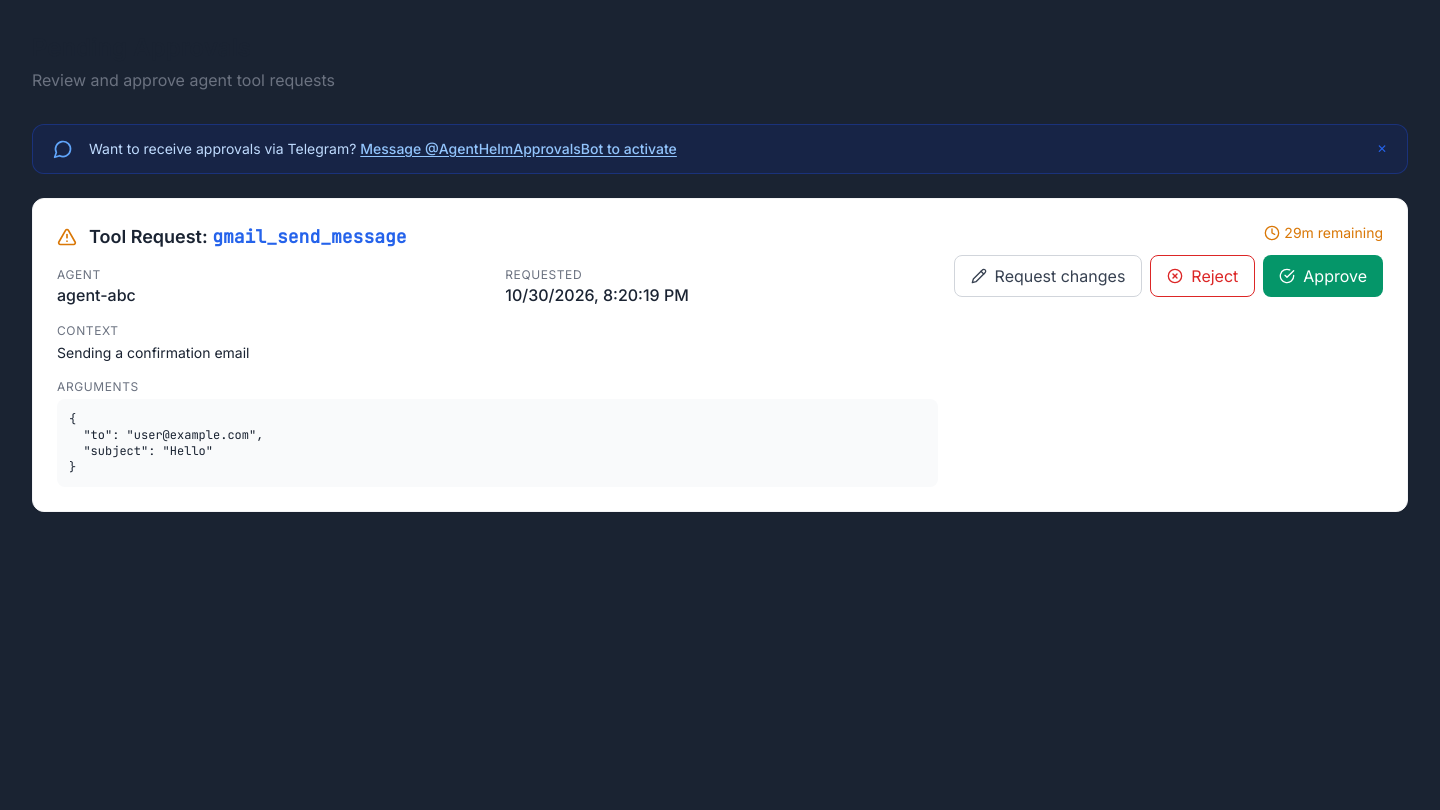
Test: Approvals page › request changes › closes the box on cancel without sending
The width and height of the screenshot is (1440, 810).
Click the button "Request changes": (1048, 276) top-left (954, 255), bottom-right (1142, 297)
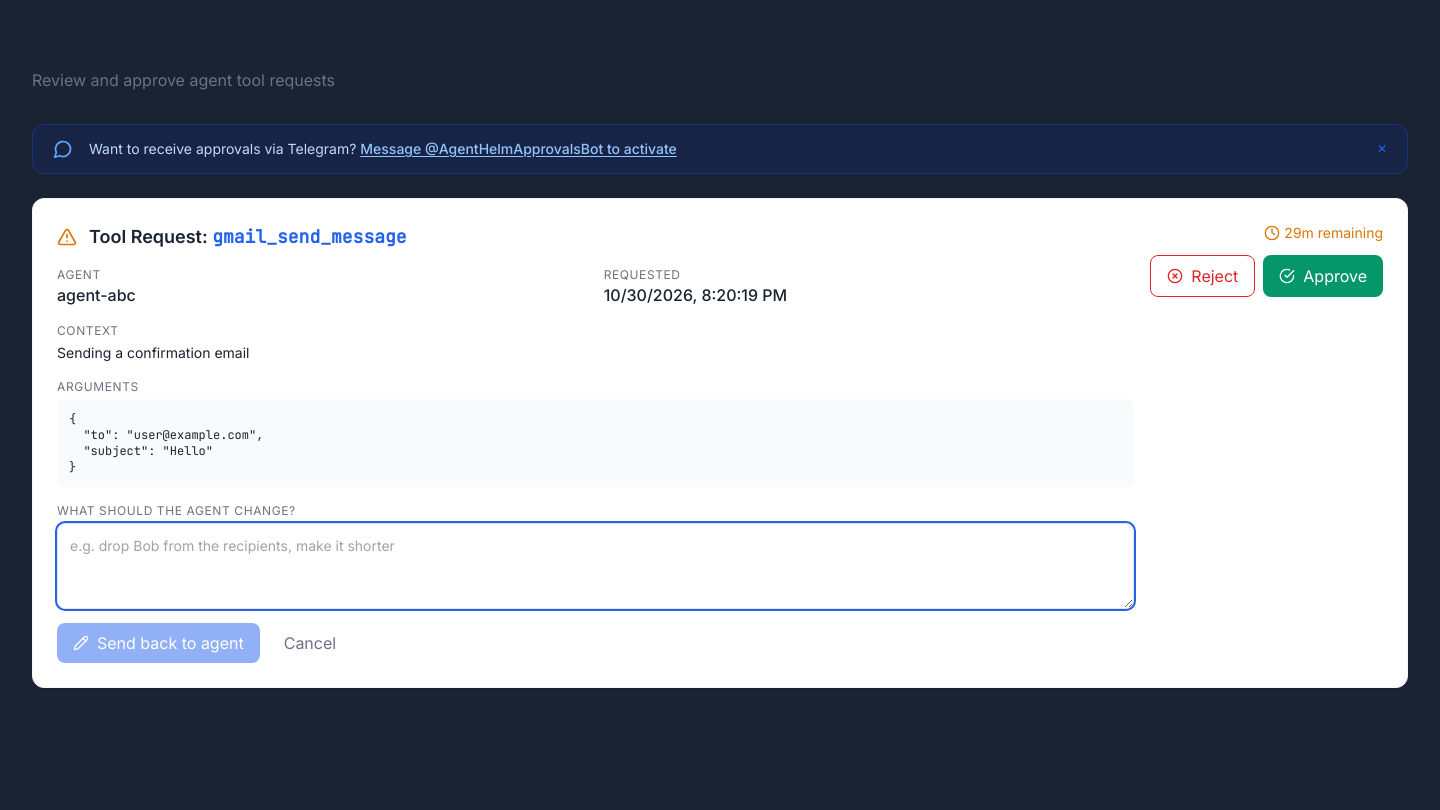
In the text box labelled "What should the agent change?": (596, 566) top-left (57, 523), bottom-right (1134, 609), type "nope"
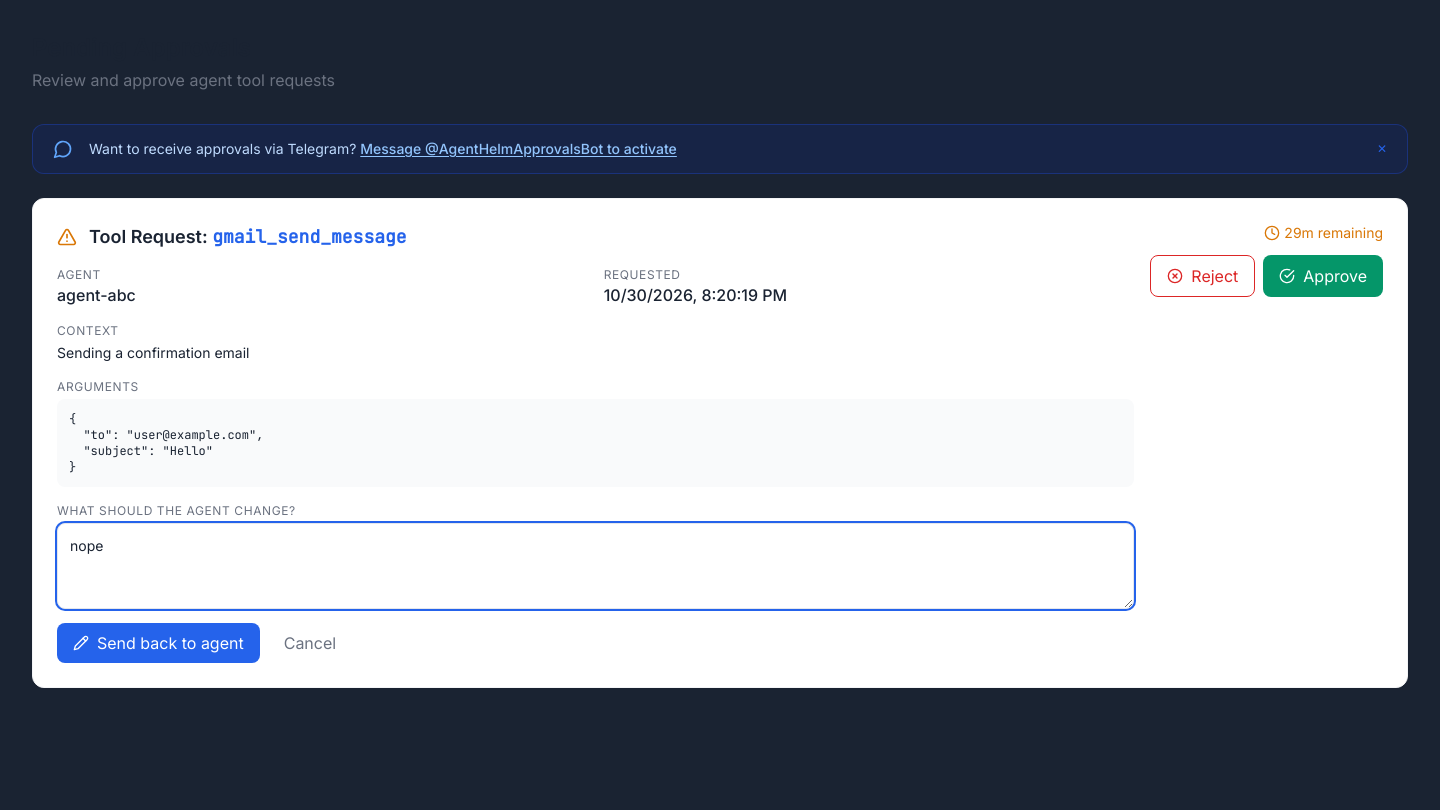
Click the button "Cancel": (310, 643) top-left (268, 623), bottom-right (352, 663)
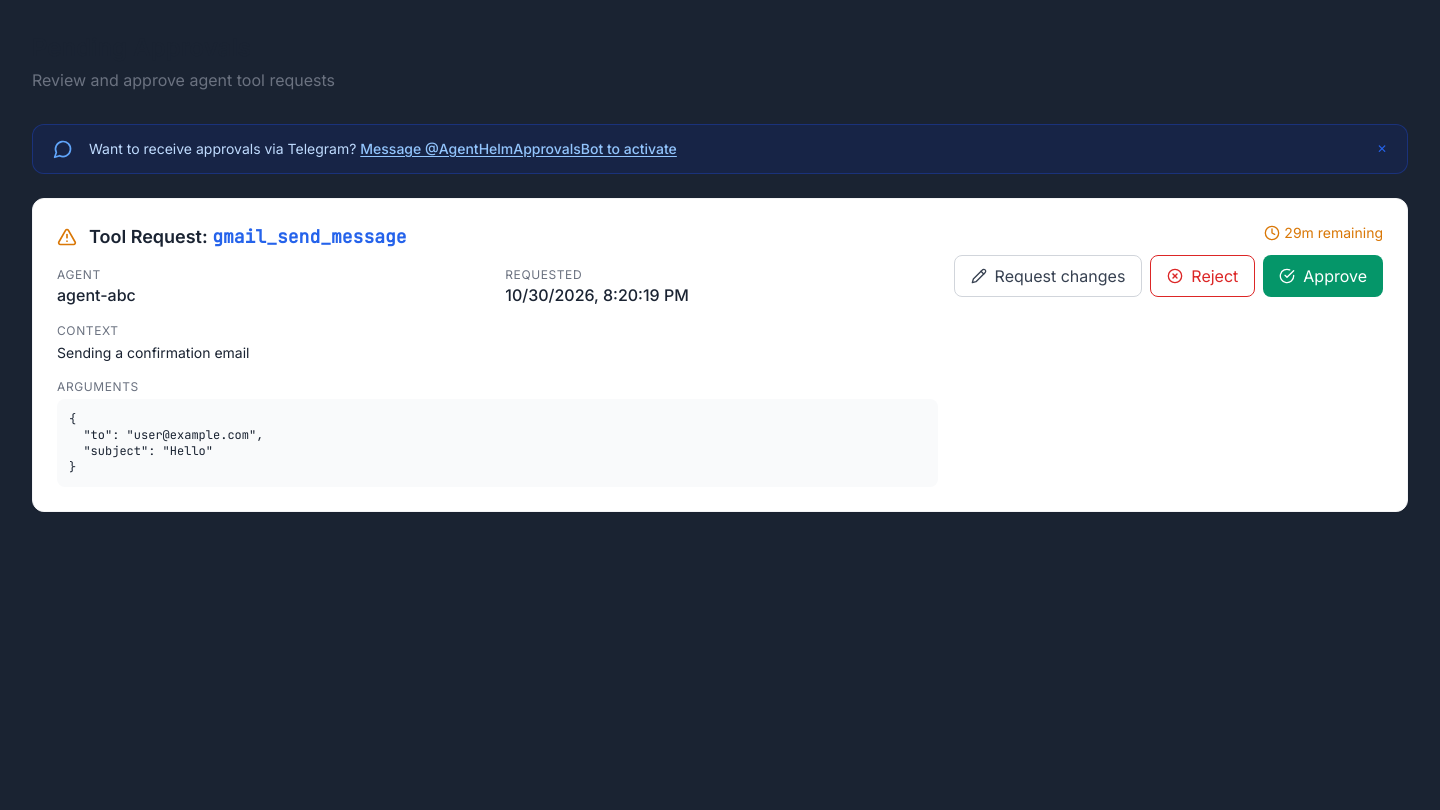
Expected: the label labelled "What should the agent change" is gone
